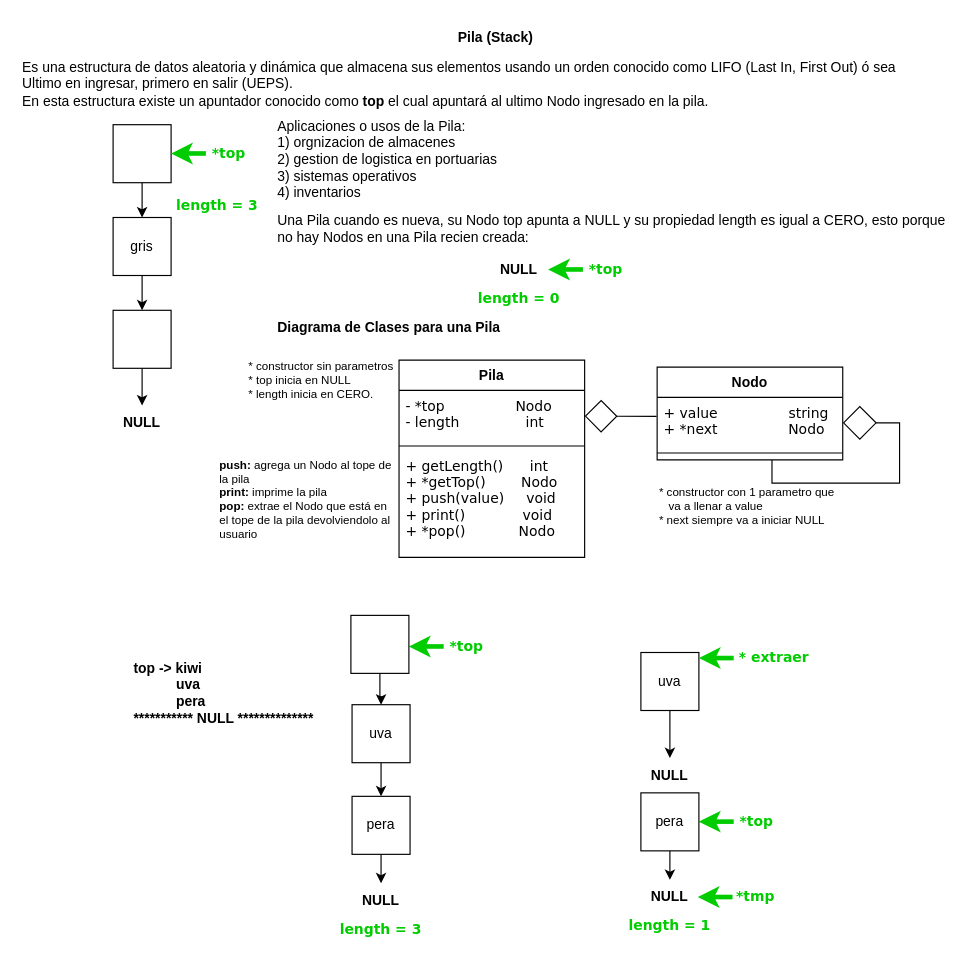
The diagram is 979 pixels wide and 960 high, and some of its shapes have lost their labels. Here are the shapes that lost their labels. From the top down, the centre of each, then its label:
At pixel 141 153: "rojo".
At pixel 141 338: "azul".
At pixel 379 643: "kiwi".
